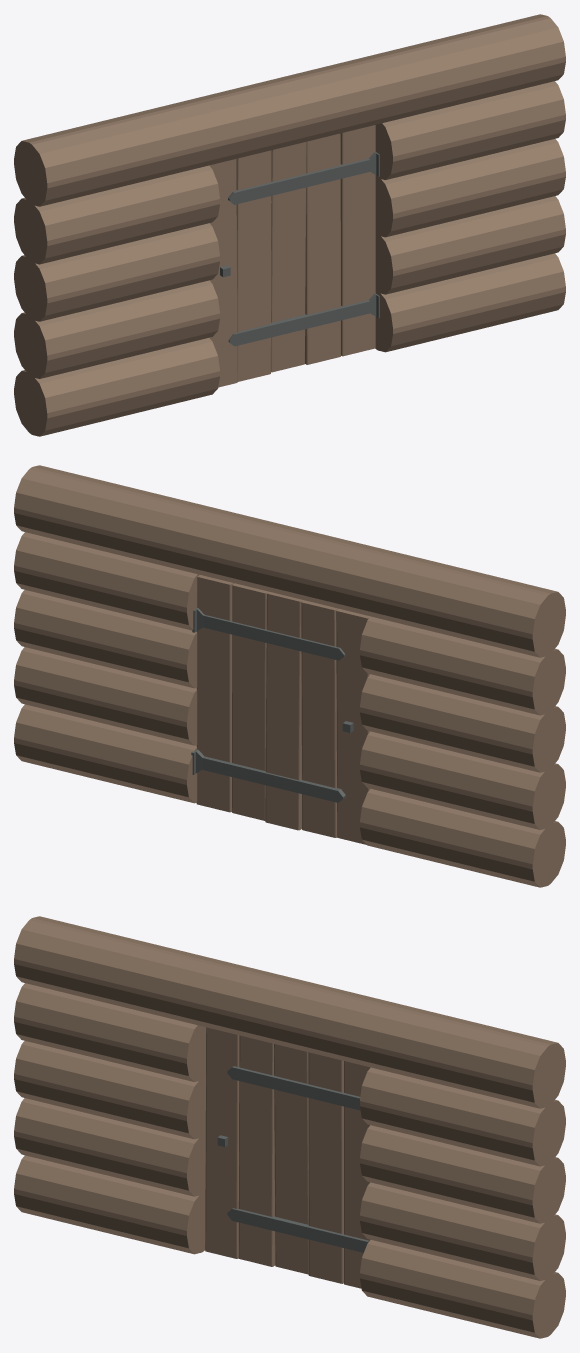
Rendered from hut_wall_with_doors.fbx.
3 renders of one model, top to bottom at view 1: azimuth 30°, elevation 25°; view 2: azimuth 150°, elevation 25°; view 3: azimuth 330°, elevation 25°, orthographic.
Parts seen in each view (by area): view 1: Cube.001; view 2: Cube.001; view 3: Cube.001.
Part boxes in pixels (x1=…): Cube.001: x1=14, y1=14, x2=565, y2=436; Cube.001: x1=14, y1=465, x2=565, y2=887; Cube.001: x1=14, y1=916, x2=565, y2=1338.
Bounding box in the file's own units: 1803 × 964 × 200.
